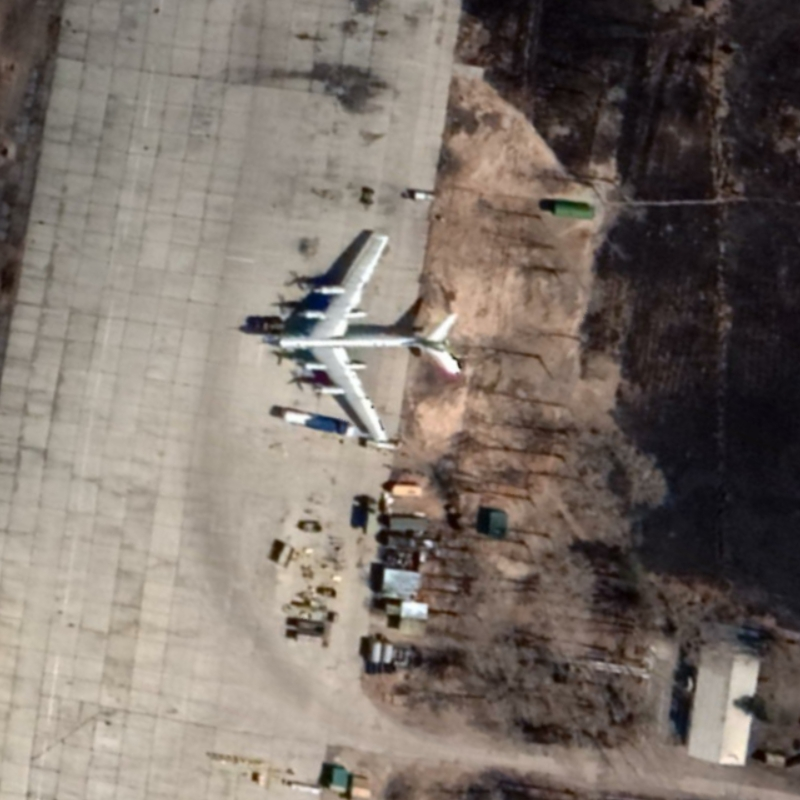A17: (272, 230, 464, 448)
